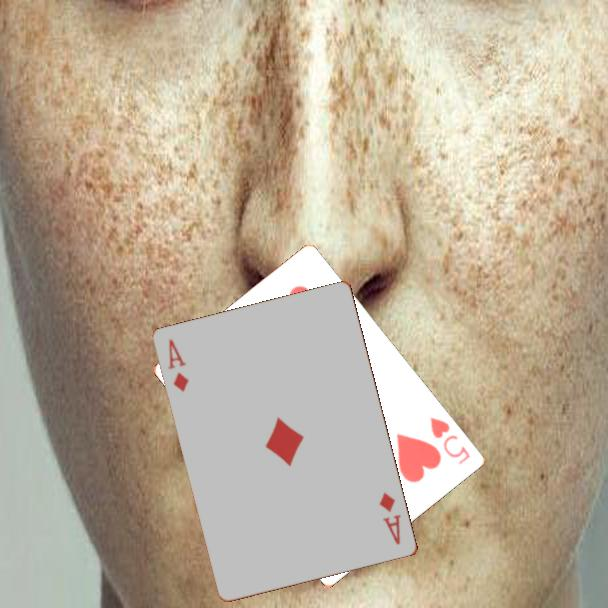d01: (376, 489, 404, 548), (165, 335, 192, 395)
h05: (427, 414, 473, 468)
